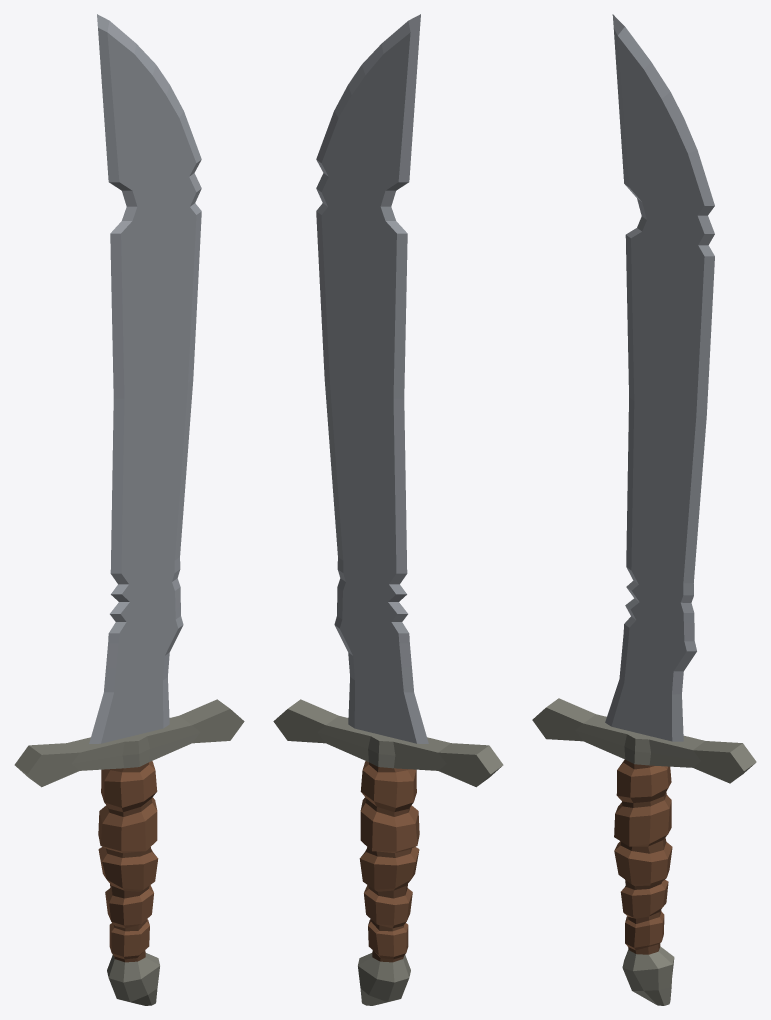
File: Sword_2.glb
The picture shows the model from 3 angles, left to right: view 1: azimuth 30°, elevation 25°; view 2: azimuth 150°, elevation 25°; view 3: azimuth 330°, elevation 25°; orthographic projection. The views are drawn at different scales.
Parts seen in each view (by area): view 1: Sword_2; view 2: Sword_2; view 3: Sword_2.
Part boxes in pixels (<box>): Sword_2: <box>14,14,244,1005</box>; Sword_2: <box>273,14,503,1005</box>; Sword_2: <box>532,14,756,1005</box>.
Size of the model in its own units: 1.22 by 5.36 by 0.3104.
